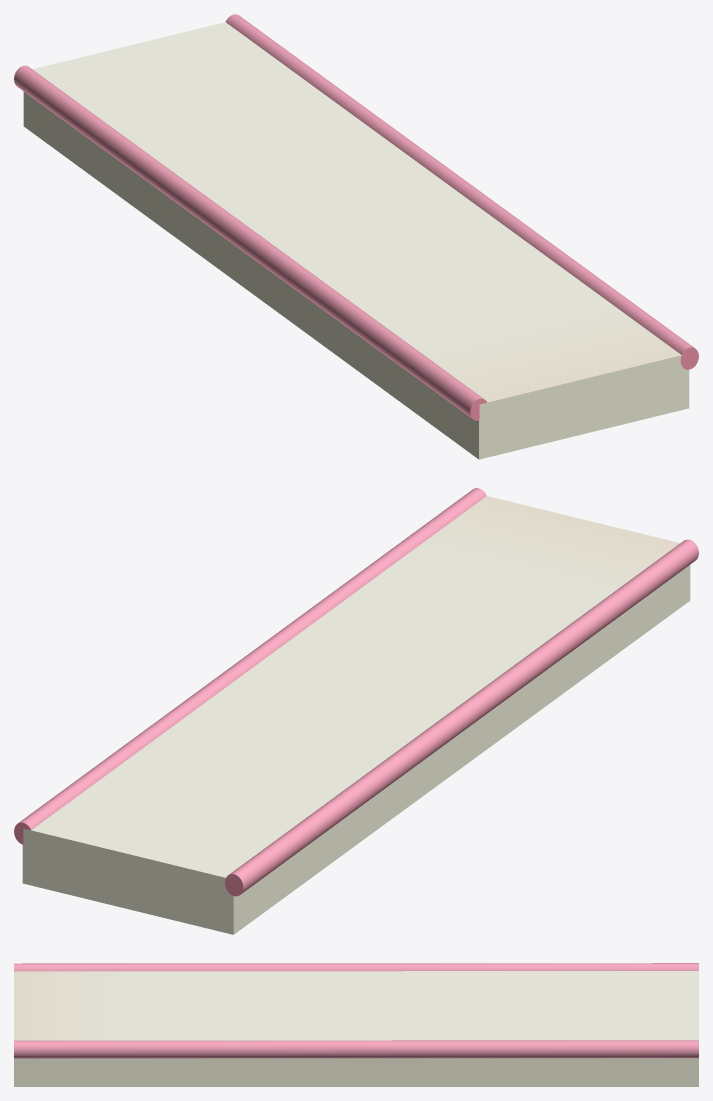
Rendered from Road_1.FBX.
3 renders of one model, top to bottom at view 1: azimuth 30°, elevation 25°; view 2: azimuth 150°, elevation 25°; view 3: azimuth 270°, elevation 25°, orthographic. The views are drawn at different scales.
Visible parts, largest first — view 1: Road_1; view 2: Road_1; view 3: Road_1.
Boxes of the visible parts, x1=… form: Road_1: x1=14, y1=14, x2=698, y2=459; Road_1: x1=14, y1=488, x2=698, y2=934; Road_1: x1=14, y1=963, x2=698, y2=1086.
Size of the model in its own units: 4.37 by 1.1 by 15.
